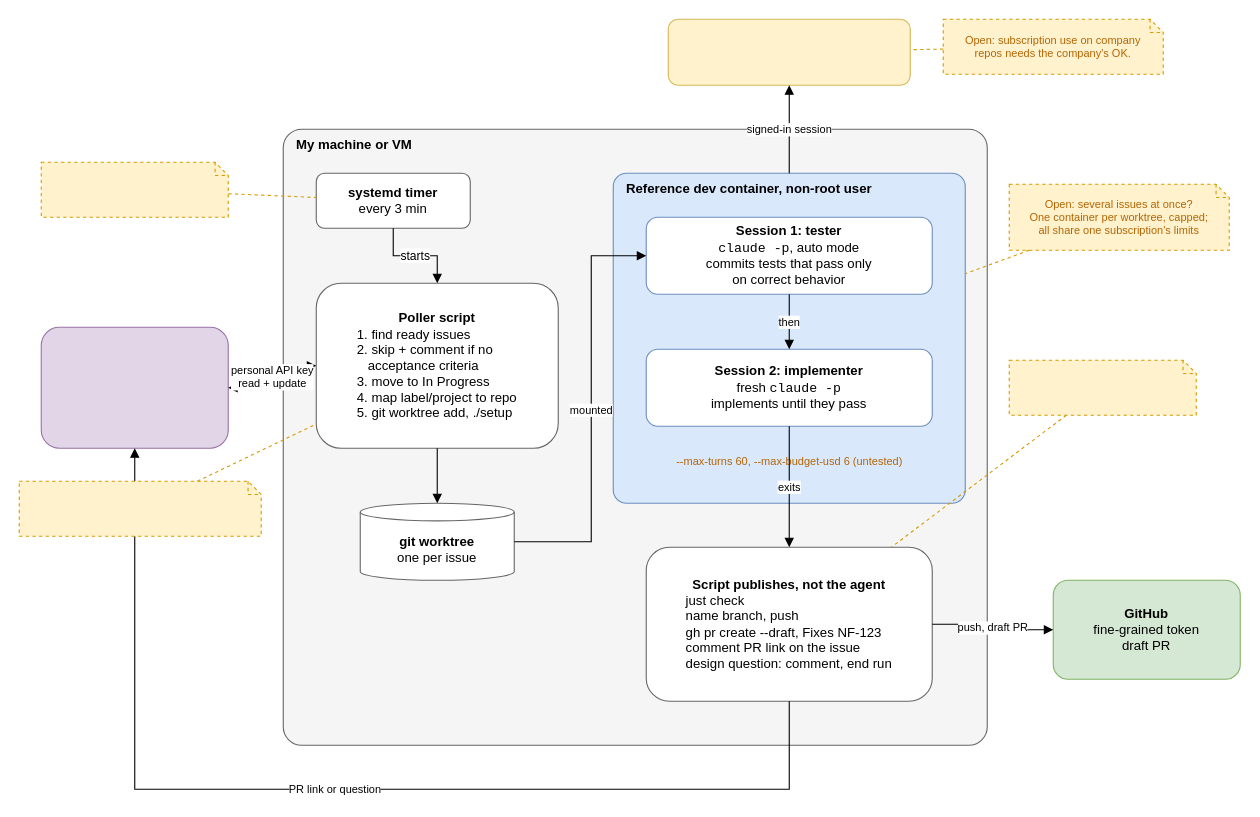
Some shapes in this 1260 by 817 pixel diagram are drawn without their labels. Each missing label, with the centre of its shape:
Linear NF team issues assigned to me, label claude: pixel 134 387
My claude.ai subscription Claude Code login on this machine: pixel 788 51
Open: label/project to repo mapping; recovery of issues stuck In Progress: pixel 139 508
Open: lock so two runs cannot overlap (flock): pixel 134 189
Open: reject implementer changes to test files: pixel 1102 387
